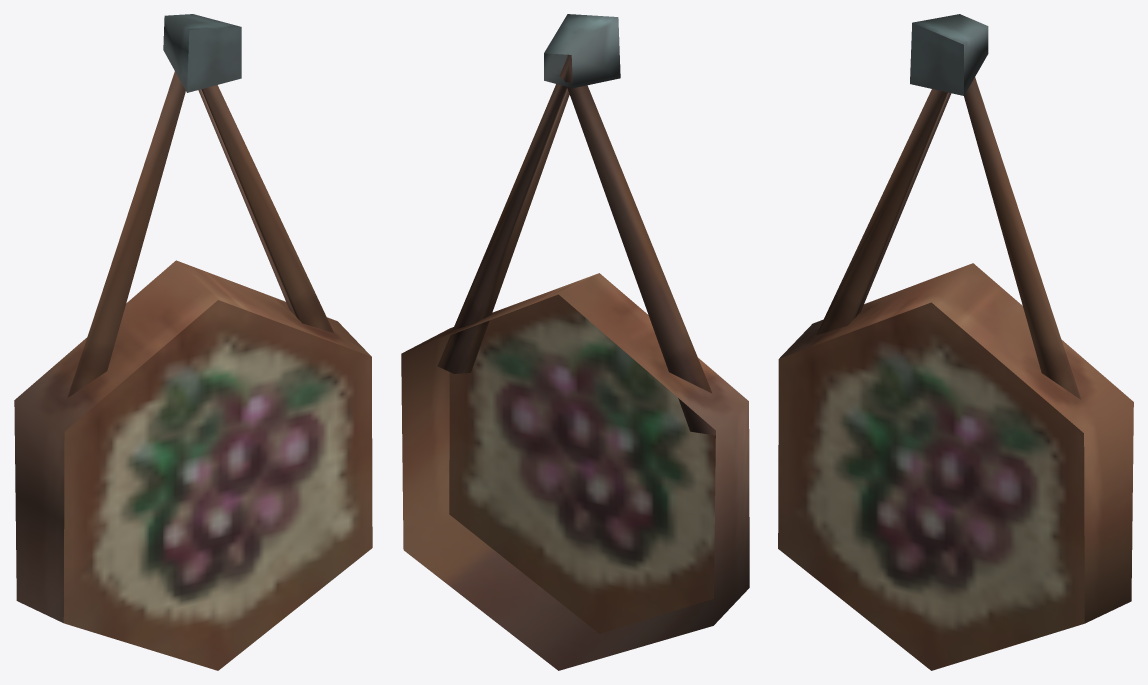
Rendered from furnitureSet_roundPicture_1.FBX.
The picture shows the model from 3 angles, left to right: view 1: azimuth 30°, elevation 25°; view 2: azimuth 150°, elevation 25°; view 3: azimuth 330°, elevation 25°; orthographic projection. The views are drawn at different scales.
Parts seen in each view (by area): view 1: furnitureSet_roundPicture_1; view 2: furnitureSet_roundPicture_1; view 3: furnitureSet_roundPicture_1.
Boxes of the visible parts, <box> form: furnitureSet_roundPicture_1: <box>14,14,372,670</box>; furnitureSet_roundPicture_1: <box>401,14,749,670</box>; furnitureSet_roundPicture_1: <box>778,14,1133,670</box>.
Bounding box in the file's own units: 23.59 × 45.35 × 5.32.
Materials: 1 (1 with a texture image).
